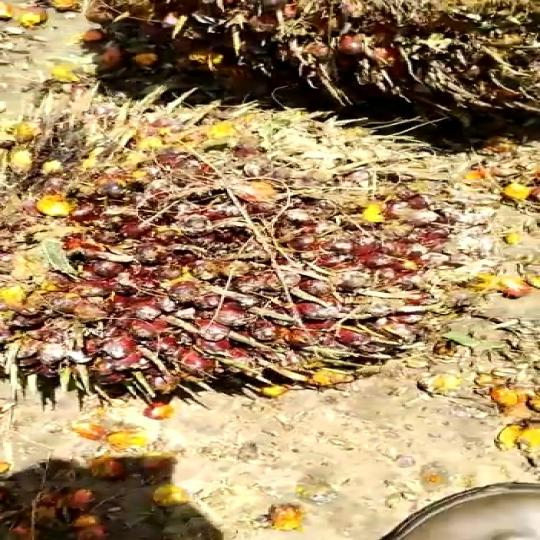kurang masak: (0, 107, 509, 418)
